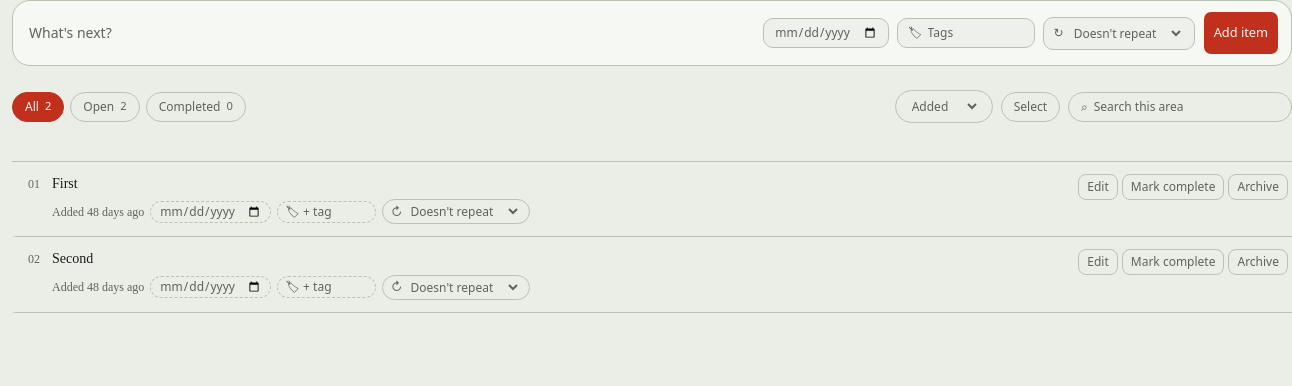
it: TaskWorkspace › bulk-archives selected tasks as a plain status flip, no spawning
Step 1. Click the button "Select" → (1030, 106), box [1001,92,1060,122]
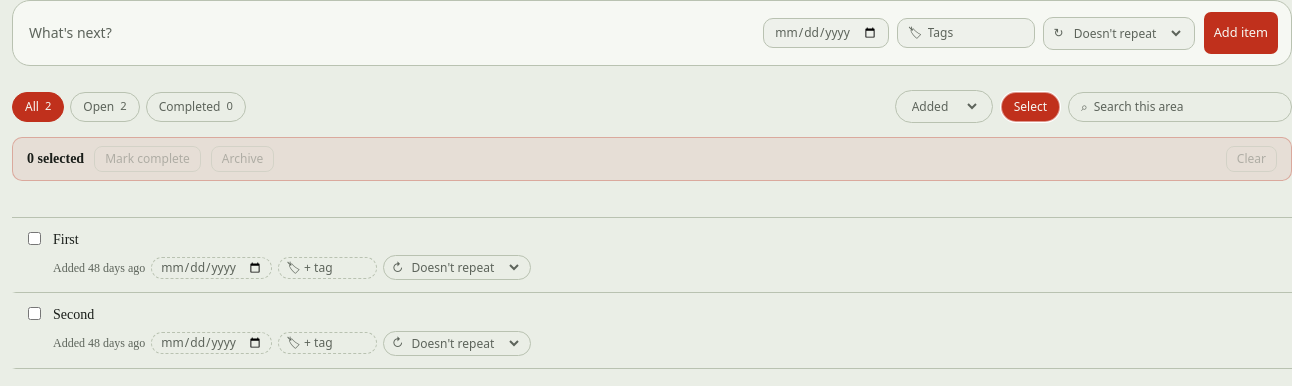
Step 2. Click the checkbox named "Select First" → (34, 238), box [28,232,41,245]
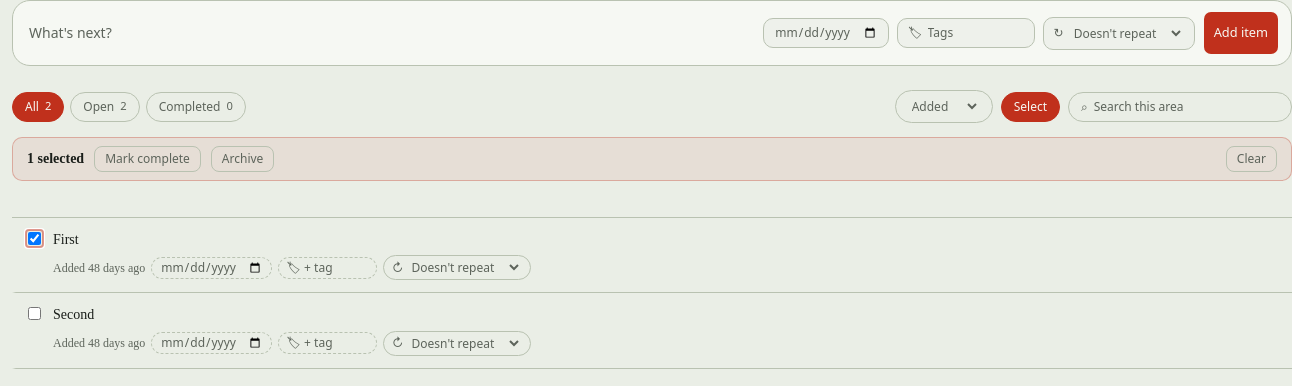
Step 3. Click the checkbox named "Select Second" → (34, 314), box [28,307,41,320]
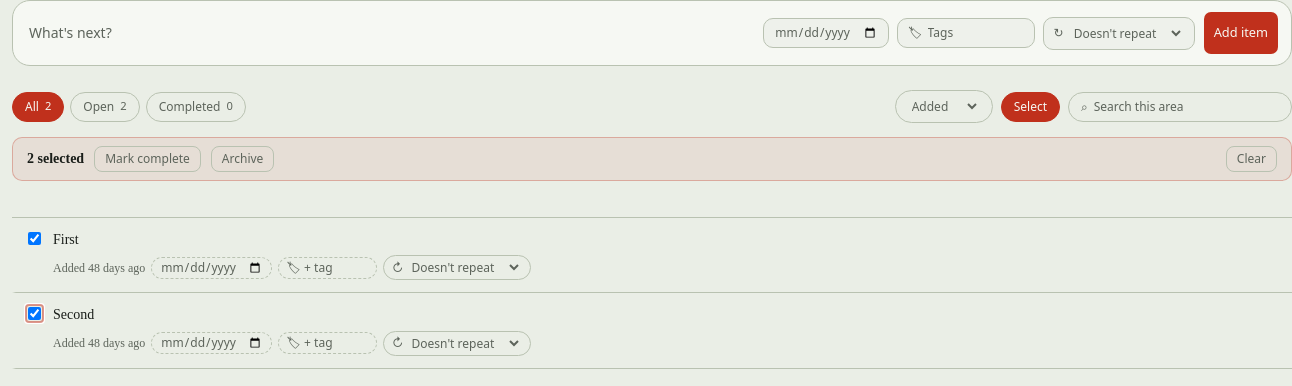
Step 4. Click the button "Archive" → (243, 159), box [211,146,274,172]
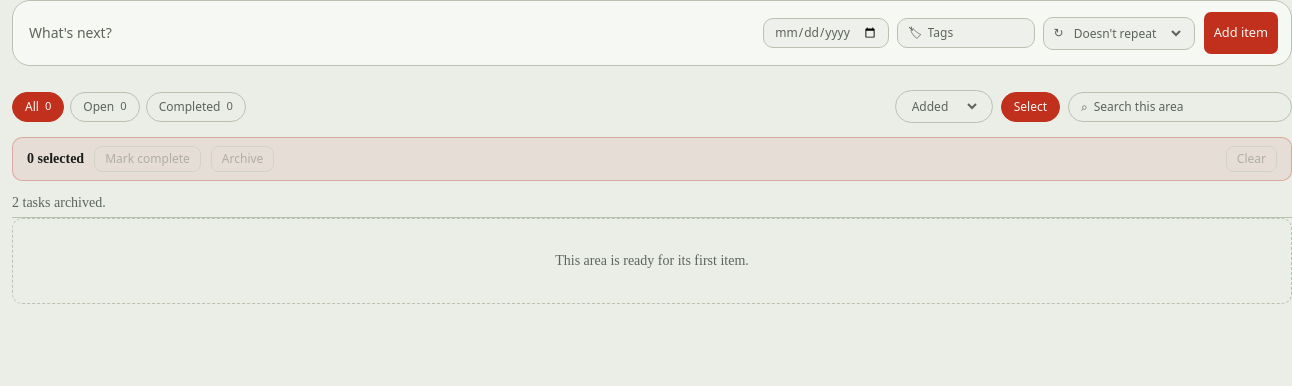
Expected: the link "Second" is gone
